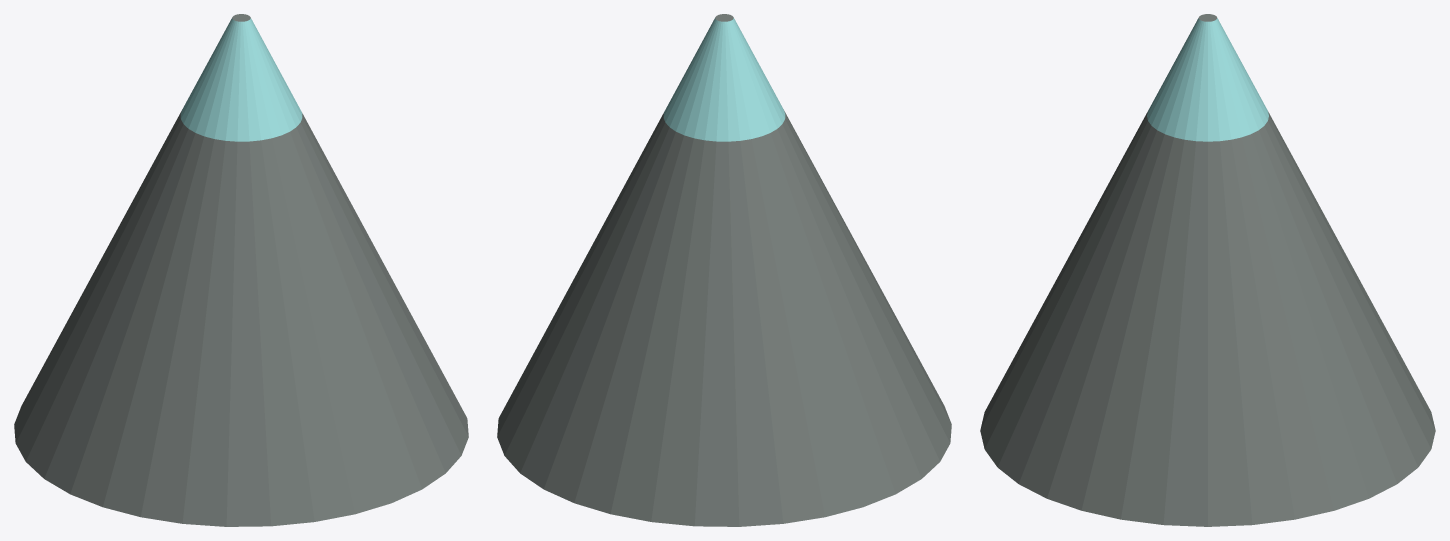
The model's file is moutain.glb.
The picture shows the model from 3 angles, left to right: view 1: azimuth 30°, elevation 25°; view 2: azimuth 150°, elevation 25°; view 3: azimuth 270°, elevation 25°; orthographic projection.
Parts seen in each view (by area): view 1: Moutain; view 2: Moutain; view 3: Moutain.
Part boxes in pixels (box(x1,y1,x2,y2)): Moutain: box(14, 14, 468, 526); Moutain: box(497, 14, 951, 526); Moutain: box(980, 14, 1435, 526).
Bounding box in the file's own units: 2 × 2 × 2.
